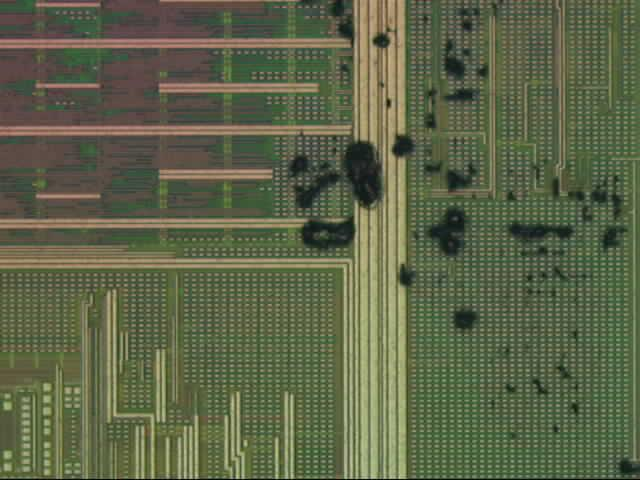PO CONTAMINATION: (285, 1, 640, 480)
